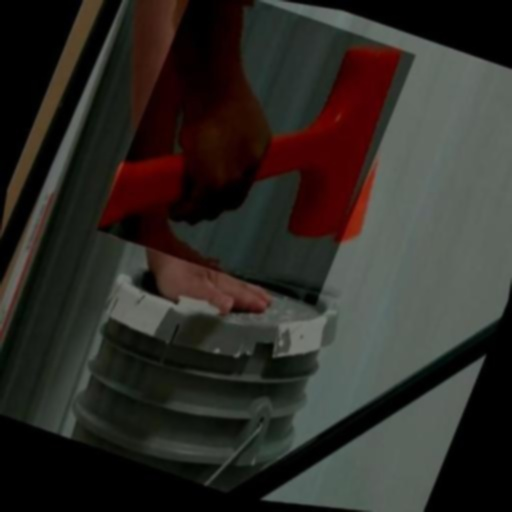mallet: (96, 11, 402, 275)
